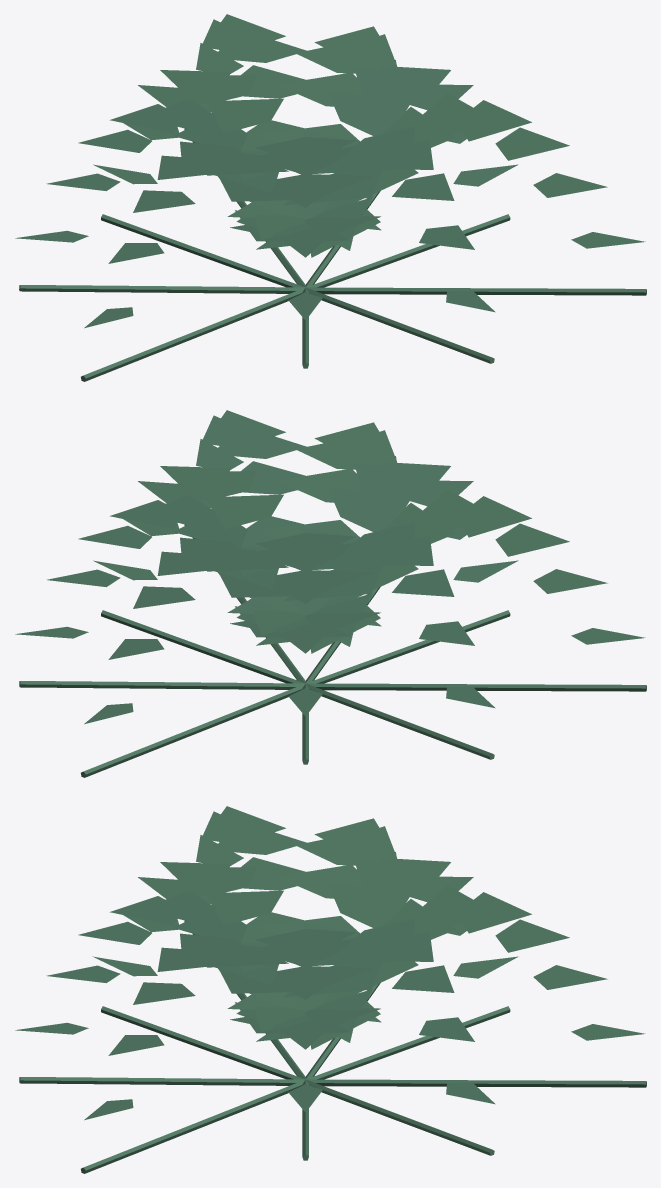
The model's file is SM_RainFern.glb.
3 renders of one model, top to bottom at view 1: azimuth 30°, elevation 25°; view 2: azimuth 150°, elevation 25°; view 3: azimuth 270°, elevation 25°, orthographic.
Parts seen in each view (by area): view 1: SM_RainFern; view 2: SM_RainFern; view 3: SM_RainFern.
Boxes of the visible parts, x1,y1,x2,y2 form: SM_RainFern: (15, 14, 646, 381); SM_RainFern: (15, 410, 646, 777); SM_RainFern: (15, 806, 646, 1173).
Size of the model in its own units: 2.02 by 0.7105 by 2.16.
